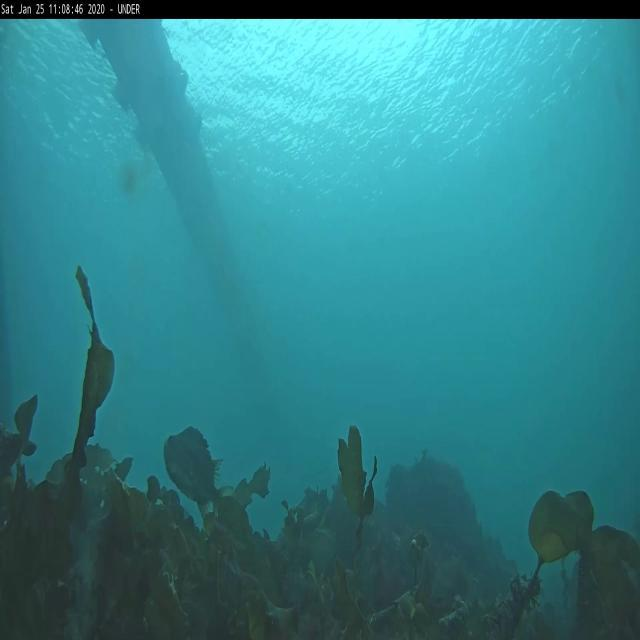fish: (164, 424, 238, 525)
